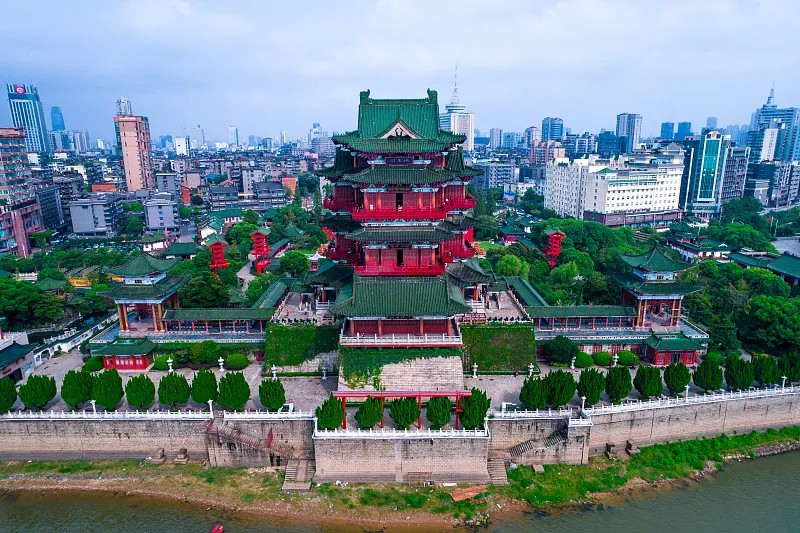Teng: (315, 90, 477, 275)
